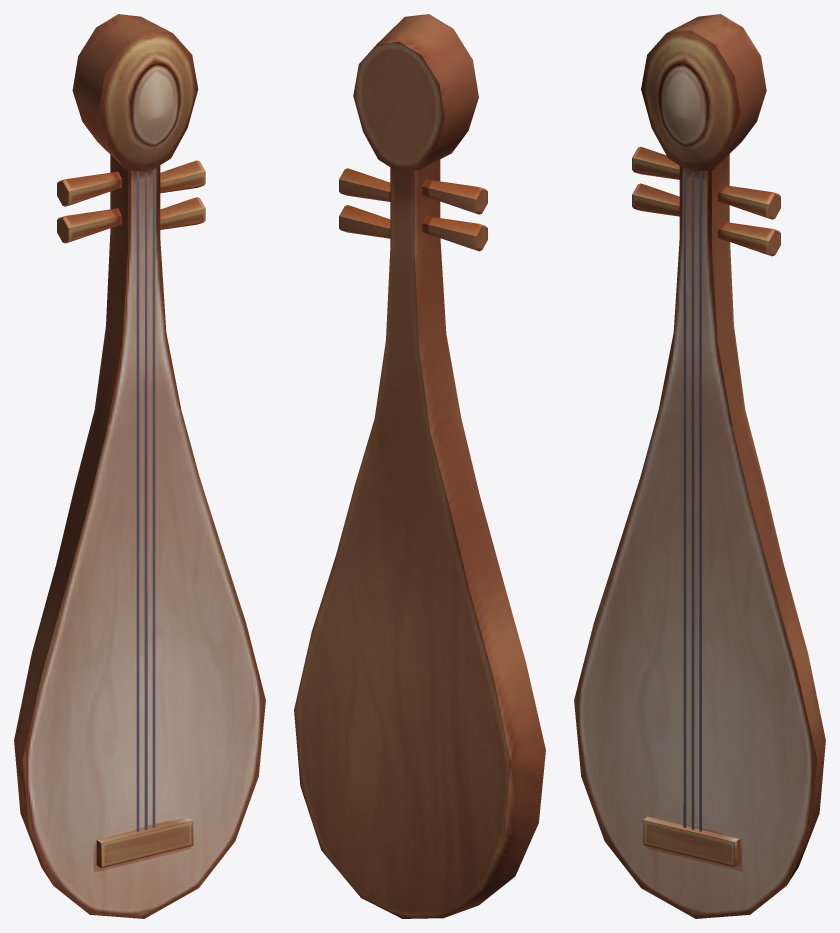
The model's file is 1026_wuqi_1.FBX.
3 renders of one model, left to right at view 1: azimuth 30°, elevation 25°; view 2: azimuth 150°, elevation 25°; view 3: azimuth 330°, elevation 25°, orthographic.
Parts seen in each view (by area): view 1: W1026_1; view 2: W1026_1; view 3: W1026_1.
Part boxes in pixels (left/top/right/bottom): W1026_1: left=14, top=14, right=265, bottom=918; W1026_1: left=294, top=14, right=545, bottom=918; W1026_1: left=574, top=14, right=825, bottom=918.
Size of the model in its own units: 36.89 by 129 by 10.44.
